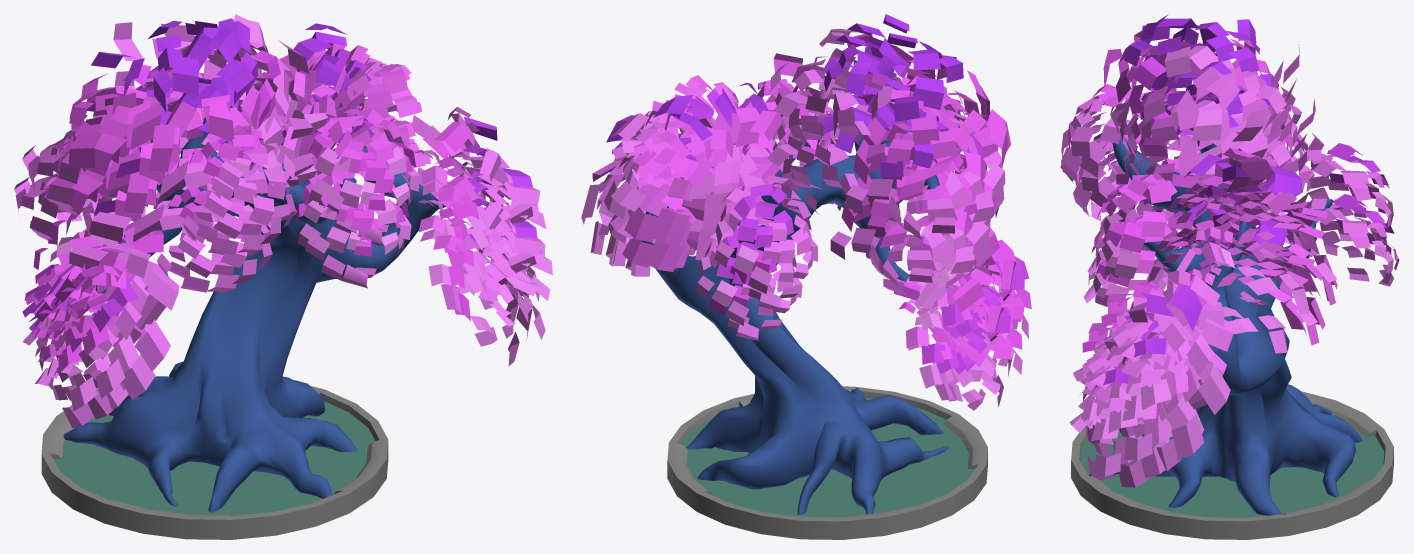
File: Smooth_Tree.fbx
The picture shows the model from 3 angles, left to right: view 1: azimuth 30°, elevation 25°; view 2: azimuth 150°, elevation 25°; view 3: azimuth 270°, elevation 25°; orthographic projection. The views are drawn at different scales.
Visible parts, largest first — view 1: leaves, leaves1, trunk, park; view 2: leaves, leaves1, trunk, park; view 3: leaves, leaves1, trunk, park.
Part boxes in pixels (<box>): leaves: <box>22,14,546,419</box>; leaves1: <box>14,71,552,427</box>; trunk: <box>63,107,445,512</box>; park: <box>41,376,388,539</box>; leaves: <box>581,14,1031,376</box>; leaves1: <box>598,77,1022,410</box>; trunk: <box>639,130,948,515</box>; park: <box>667,386,987,539</box>; leaves: <box>1060,14,1393,471</box>; leaves1: <box>1069,71,1399,487</box>; trunk: <box>1089,136,1362,515</box>; park: <box>1071,391,1393,539</box>.
Bounding box in the file's own units: 51.32 × 48.33 × 33.81.
